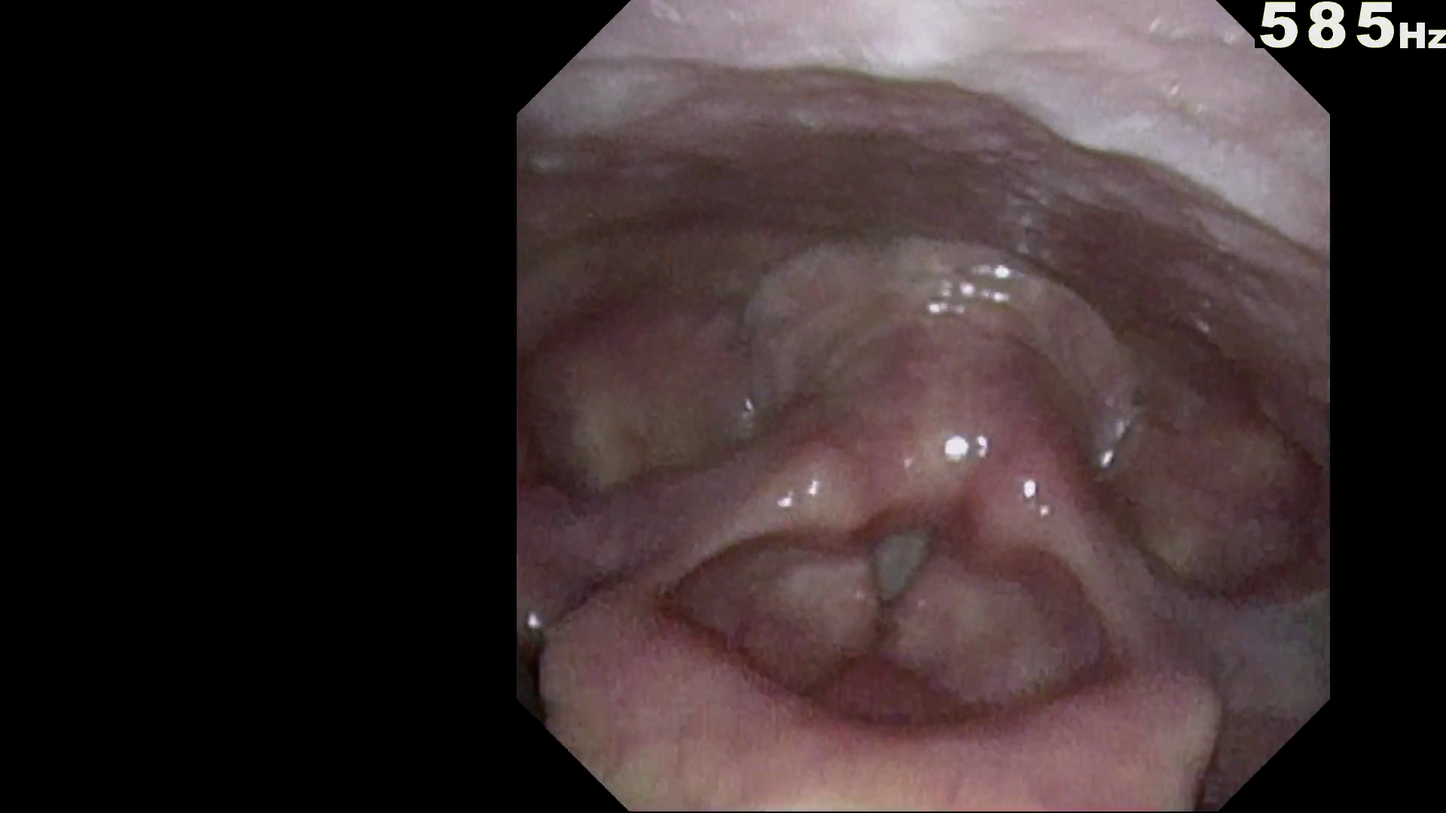epiglottis: (610, 649, 1208, 788)
trachea: (842, 497, 955, 633)
